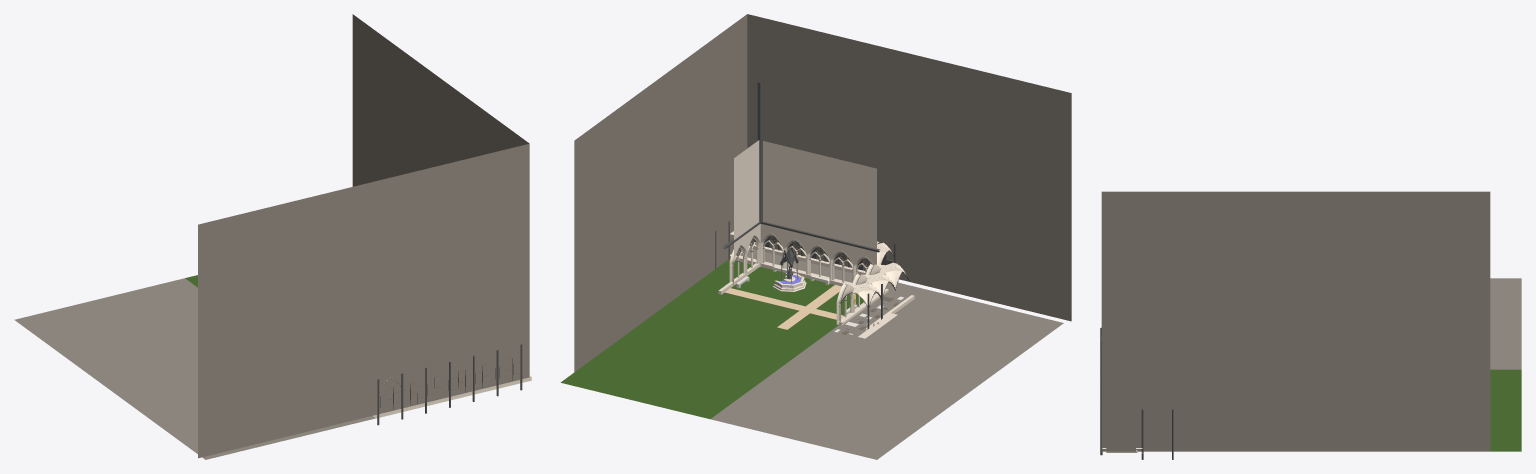
Rendered from Envirocathédrale couleurs.fbx.
3 renders of one model, left to right at view 1: azimuth 30°, elevation 25°; view 2: azimuth 150°, elevation 25°; view 3: azimuth 270°, elevation 25°, orthographic. The views are drawn at different scales.
Parts seen in each view (by area): view 1: Mur_R, groundgeneral, Mur_L, pCube65; view 2: Mur_R, Mur_L, groundgeneral, groundgeneral1, polySurface54, polySurface47, pCube65, polySurface119, pCube88, polySurface65, pCylinder24, pCube87 (+4 smaller); view 3: Mur_L, groundgeneral, groundgeneral1.
Boxes of the visible parts, bbox=[...] form: Mur_R: bbox=[198, 143, 529, 458]; groundgeneral: bbox=[14, 278, 375, 459]; Mur_L: bbox=[352, 14, 529, 186]; pCube65: bbox=[372, 375, 531, 418]; Mur_R: bbox=[747, 14, 1071, 321]; Mur_L: bbox=[574, 14, 747, 371]; groundgeneral: bbox=[710, 282, 1063, 459]; groundgeneral1: bbox=[560, 259, 863, 418]; polySurface54: bbox=[763, 141, 893, 278]; polySurface47: bbox=[729, 140, 759, 286]; pCube65: bbox=[730, 243, 898, 294]; polySurface119: bbox=[732, 240, 873, 321]; pCube88: bbox=[725, 288, 844, 319]; polySurface65: bbox=[836, 282, 879, 325]; pCylinder24: bbox=[757, 82, 762, 222]; pCube87: bbox=[777, 285, 841, 329]; Mur_L: bbox=[1101, 191, 1490, 451]; groundgeneral: bbox=[1490, 278, 1521, 369]; groundgeneral1: bbox=[1490, 369, 1521, 451].
Size of the model in its own units: 154 by 108 by 154.
